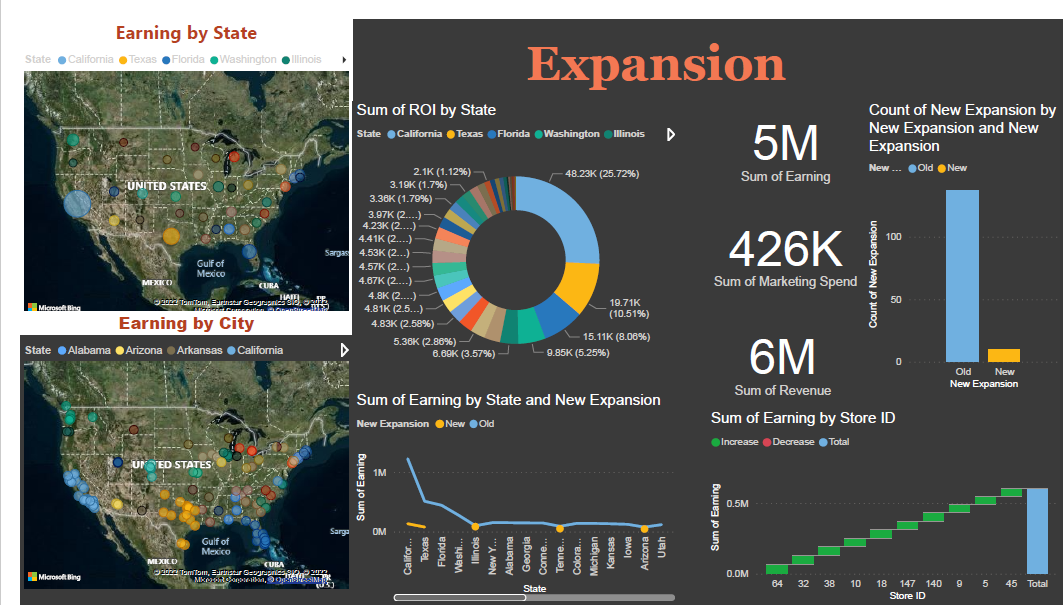

What the dashboard file says about the page in this screenshot:
{"tool":"powerbi","page":{"name":"Page 1","canvas":[1280,720],"ordinal":0},"visuals":[{"type":"map","title":"Earning by State","fields":{"Category":["startup-expansion-new.State"],"Series":["startup-expansion-new.State"],"Size":["Sum(startup-expansion-new.Earning)"]},"box":[0,0,408.1,374.4],"z":0},{"type":"textbox","box":[463.8,0,635.8,101.2],"z":1000},{"type":"map","title":"Earning by City","fields":{"Category":["startup-expansion-new.City"],"Series":["startup-expansion-new.State"]},"box":[0,359.2,408.1,345.7],"z":2000},{"type":"columnChart","fields":{"Category":["startup-expansion-new.New Expansion"],"Series":["startup-expansion-new.New Expansion"],"Y":["CountNonNull(startup-expansion-new.New Expansion)"]},"box":[1037.2,101.2,242.8,359.2],"z":3000},{"type":"donutChart","fields":{"Category":["startup-expansion-new.State"],"Y":["Sum(startup-expansion-new.ROI)"]},"box":[408.1,101.2,401.4,340.7],"z":4000},{"type":"card","fields":{"Values":["Sum(startup-expansion-new.Earning)"]},"box":[843.2,101.2,193.9,109.6],"z":5000},{"type":"card","fields":{"Values":["Sum(startup-expansion-new.Marketing Spend)"]},"box":[843.2,210.8,193.9,148.4],"z":6000},{"type":"card","fields":{"Values":["Sum(startup-expansion-new.Revenue)"]},"box":[843.2,359.2,187.2,119.7],"z":7000},{"type":"lineChart","fields":{"Category":["startup-expansion-new.State"],"Y":["Sum(startup-expansion-new.Earning)"],"Series":["startup-expansion-new.New Expansion"]},"box":[408.1,457,401.4,263.1],"z":8000},{"type":"waterfallChart","fields":{"Category":["startup-expansion-new.Store ID"],"Y":["Sum(startup-expansion-new.Earning)"]},"box":[843.2,478.9,436.8,241.2],"z":8001}]}

Visuals, with their boxes in screenshot pixels (x1, y1, x2, y2), scaled from the page's 1280x720 canvas onto the 1063x605 screenshot:
"Earning by State" map: <bbox>0, 0, 339, 315</bbox>
textbox: <bbox>385, 0, 913, 85</bbox>
"Earning by City" map: <bbox>0, 302, 339, 592</bbox>
columnChart - startup-expansion-new.New Expansion x startup-expansion-new.New Expansion: <bbox>861, 85, 1062, 387</bbox>
donutChart - startup-expansion-new.State x Sum(startup-expansion-new.ROI): <bbox>339, 85, 672, 371</bbox>
card - Sum(startup-expansion-new.Earning): <bbox>700, 85, 861, 177</bbox>
card - Sum(startup-expansion-new.Marketing Spend): <bbox>700, 177, 861, 302</bbox>
card - Sum(startup-expansion-new.Revenue): <bbox>700, 302, 856, 402</bbox>
lineChart - startup-expansion-new.State x Sum(startup-expansion-new.Earning): <bbox>339, 384, 672, 604</bbox>
waterfallChart - startup-expansion-new.Store ID x Sum(startup-expansion-new.Earning): <bbox>700, 402, 1062, 604</bbox>
